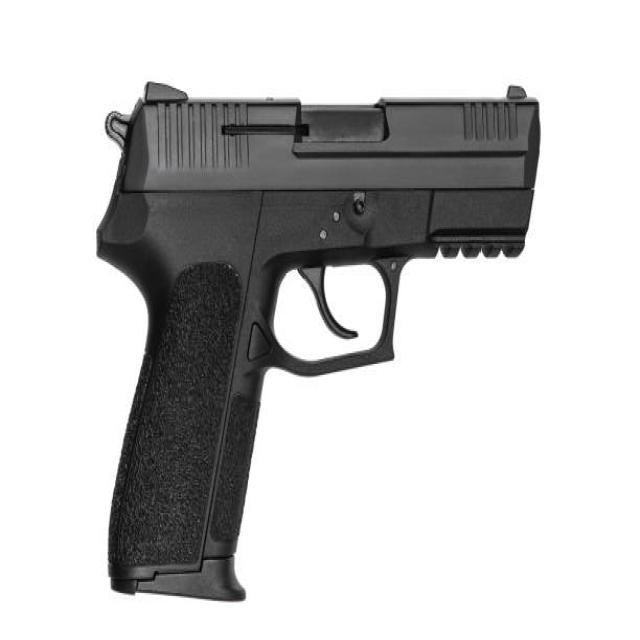pistol: (88, 69, 550, 616)
